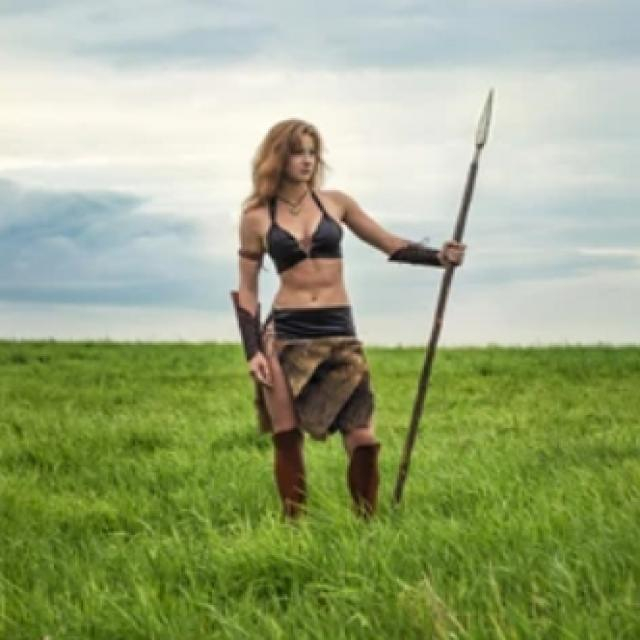spear: (387, 65, 525, 517)
